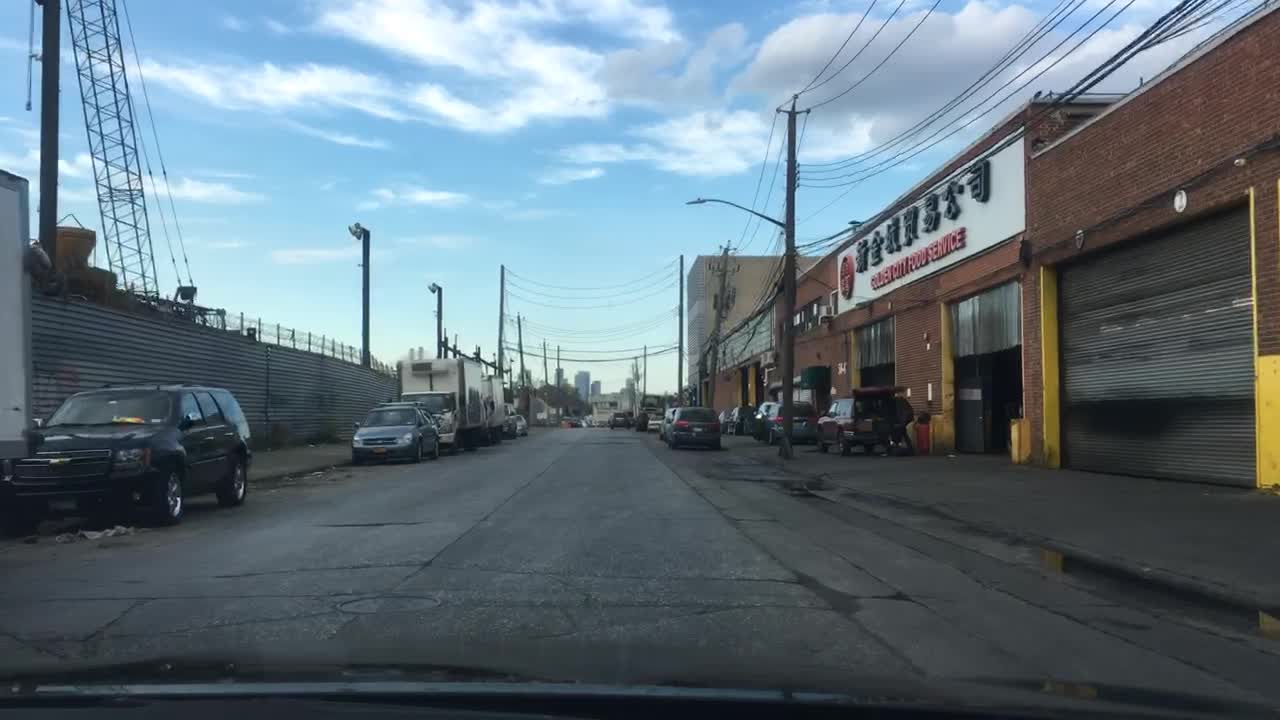car: (7, 379, 255, 532), (806, 385, 915, 454), (351, 401, 439, 461), (666, 406, 723, 452), (769, 398, 822, 445), (726, 401, 753, 432), (752, 404, 772, 435), (658, 406, 676, 434), (501, 401, 517, 432), (608, 413, 632, 429), (516, 410, 529, 432), (648, 411, 661, 427)
truck: (396, 356, 490, 451), (481, 374, 510, 436)
